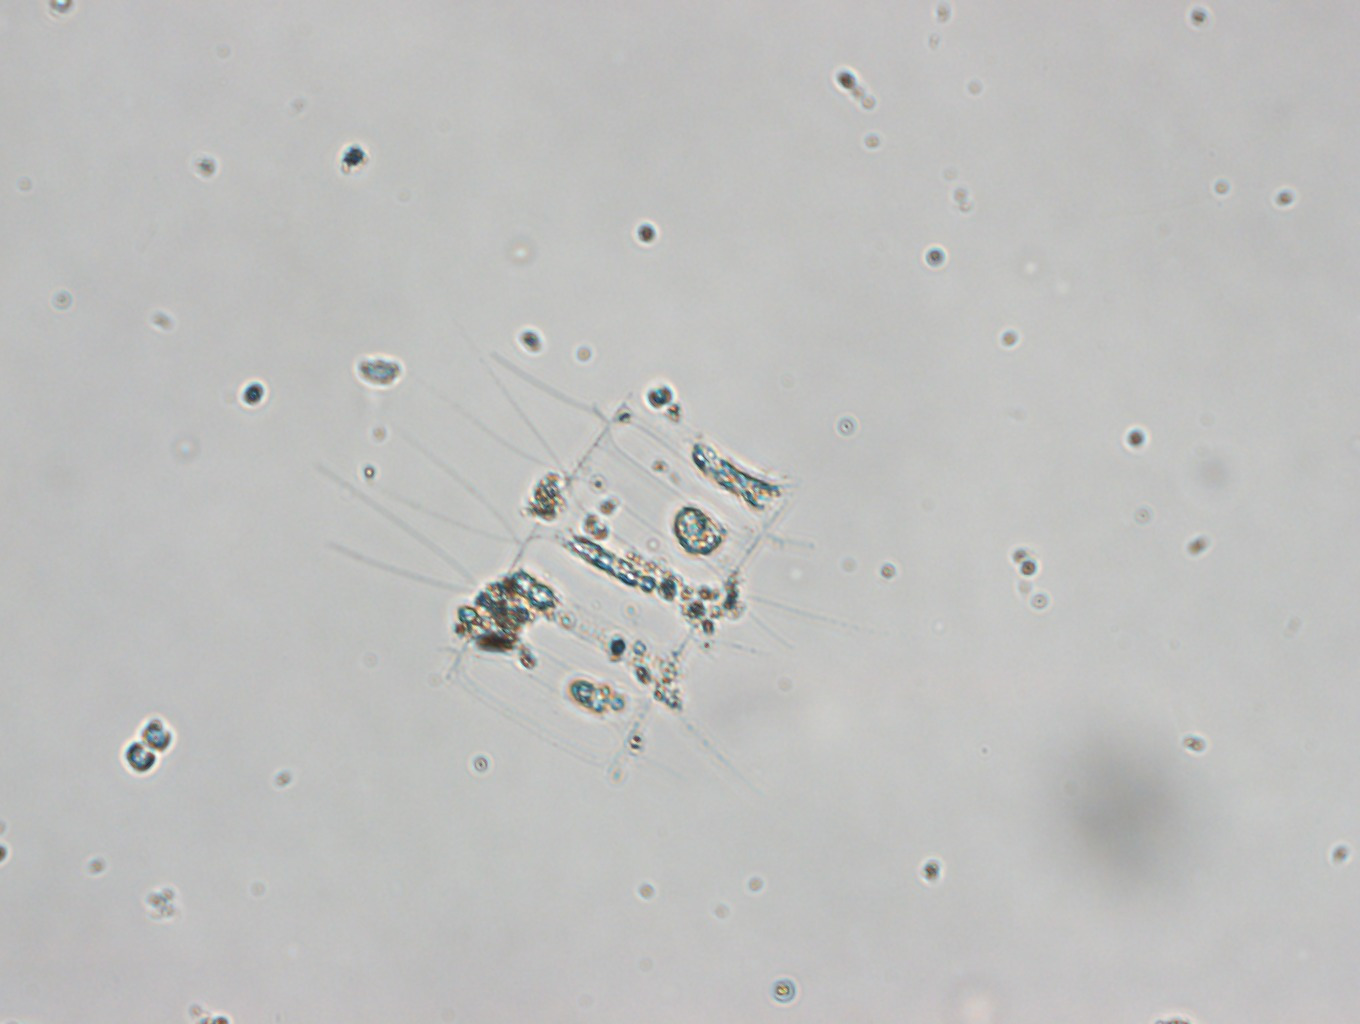chaetoceros: (317, 342, 844, 780)
